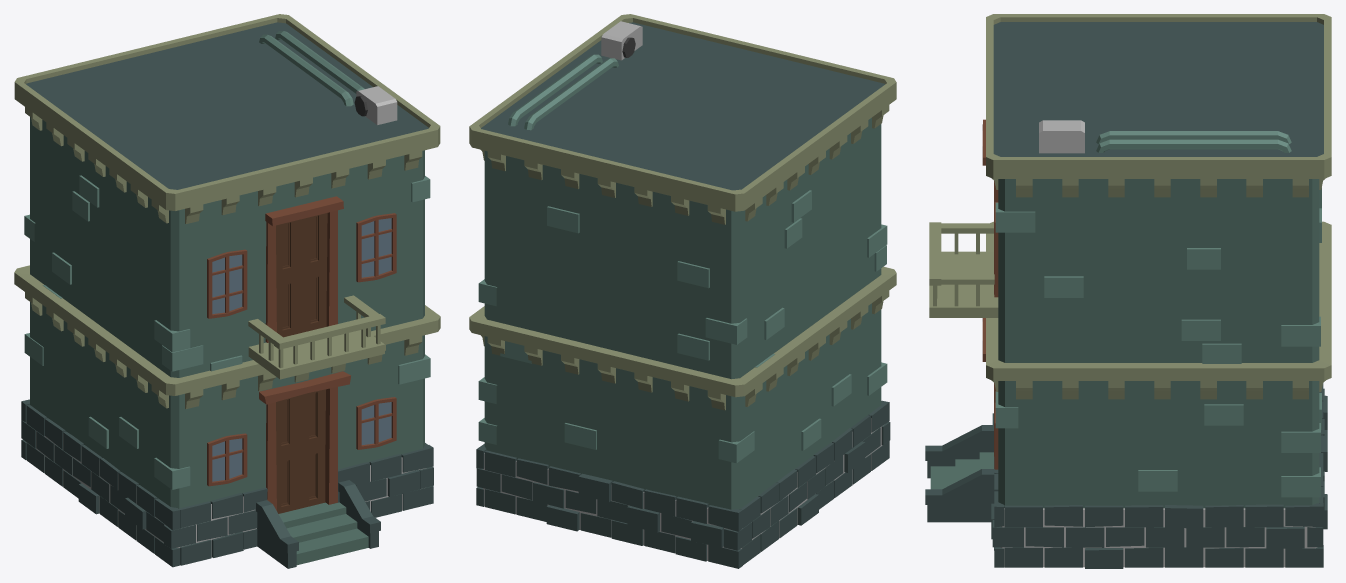
The model's file is 2Story_Balcony_Mat.glb.
The picture shows the model from 3 angles, left to right: view 1: azimuth 30°, elevation 25°; view 2: azimuth 150°, elevation 25°; view 3: azimuth 270°, elevation 25°; orthographic projection. The views are drawn at different scales.
Parts seen in each view (by area): view 1: 2Story_Balcony_Mat; view 2: 2Story_Balcony_Mat; view 3: 2Story_Balcony_Mat.
Part boxes in pixels (x1=…): 2Story_Balcony_Mat: x1=14, y1=14, x2=440, y2=568; 2Story_Balcony_Mat: x1=469, y1=14, x2=896, y2=568; 2Story_Balcony_Mat: x1=925, y1=14, x2=1331, y2=568.
Bounding box in the file's own units: 2.16 × 2.94 × 2.53.
